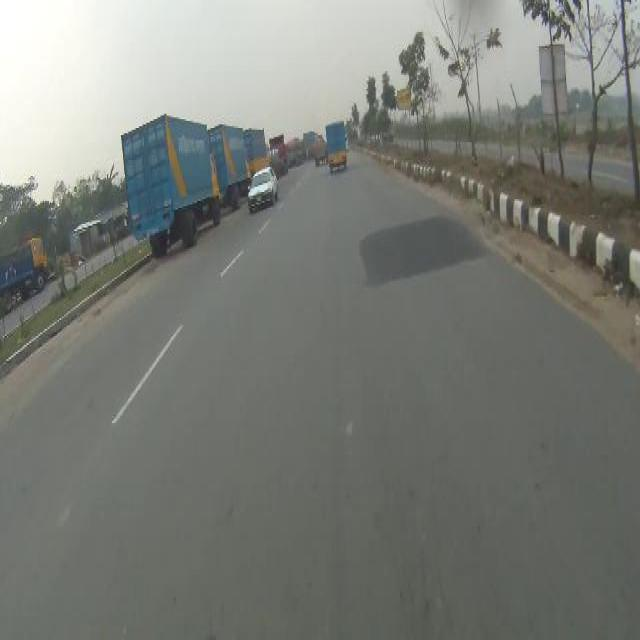vehicle: (124, 117, 223, 251), (2, 240, 50, 313), (212, 126, 250, 210), (249, 169, 278, 213), (326, 122, 346, 172), (287, 139, 304, 165), (346, 135, 348, 151)
